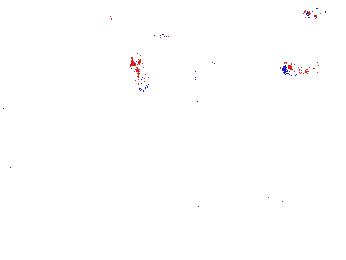X-ray fish: (126, 50, 153, 93)
glassfish: (80, 6, 209, 74)
red belly glassfish: (278, 53, 336, 78), (302, 5, 328, 21)
